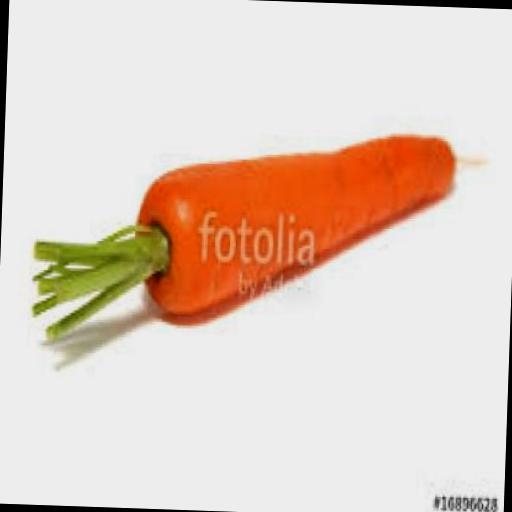biodegradable: (132, 124, 455, 323), (30, 213, 168, 338)
